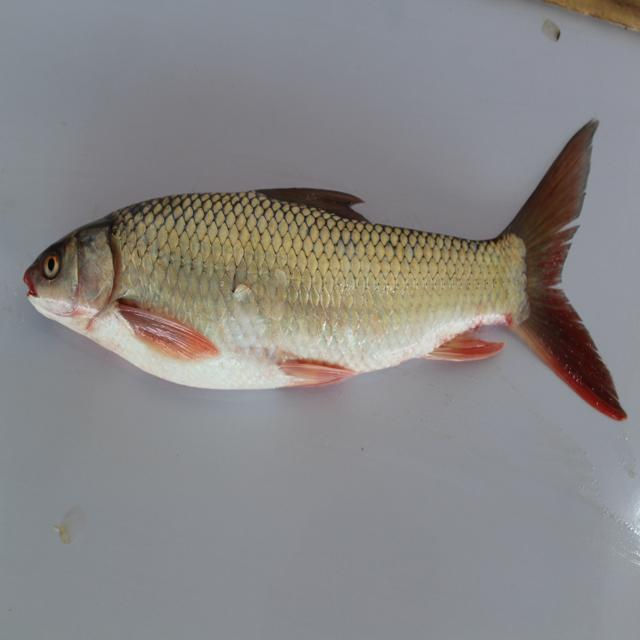Grass Carp: (22, 111, 630, 428)
